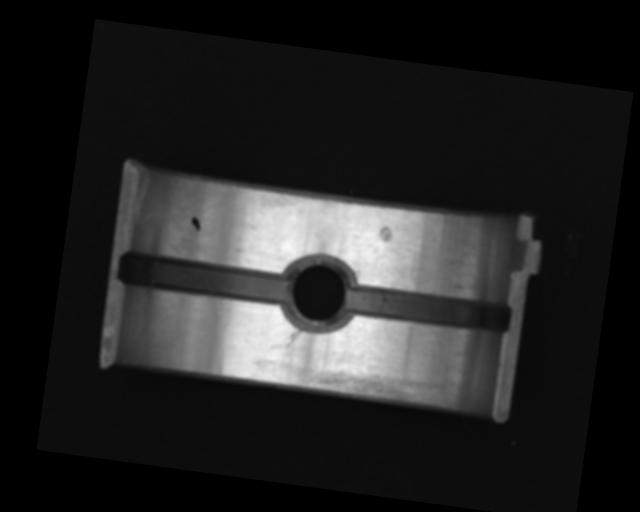blot: (188, 215, 202, 232)
bruise: (376, 224, 395, 243)
gap: (115, 249, 294, 308), (345, 281, 513, 335)
hole: (280, 252, 359, 337)
nick: (285, 326, 303, 351)
scratch: (303, 363, 456, 412)
